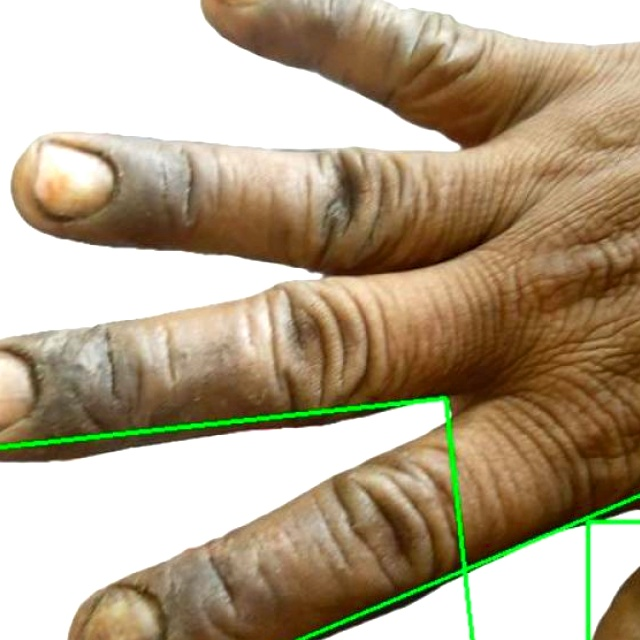Eczema: (0, 398, 473, 639)
